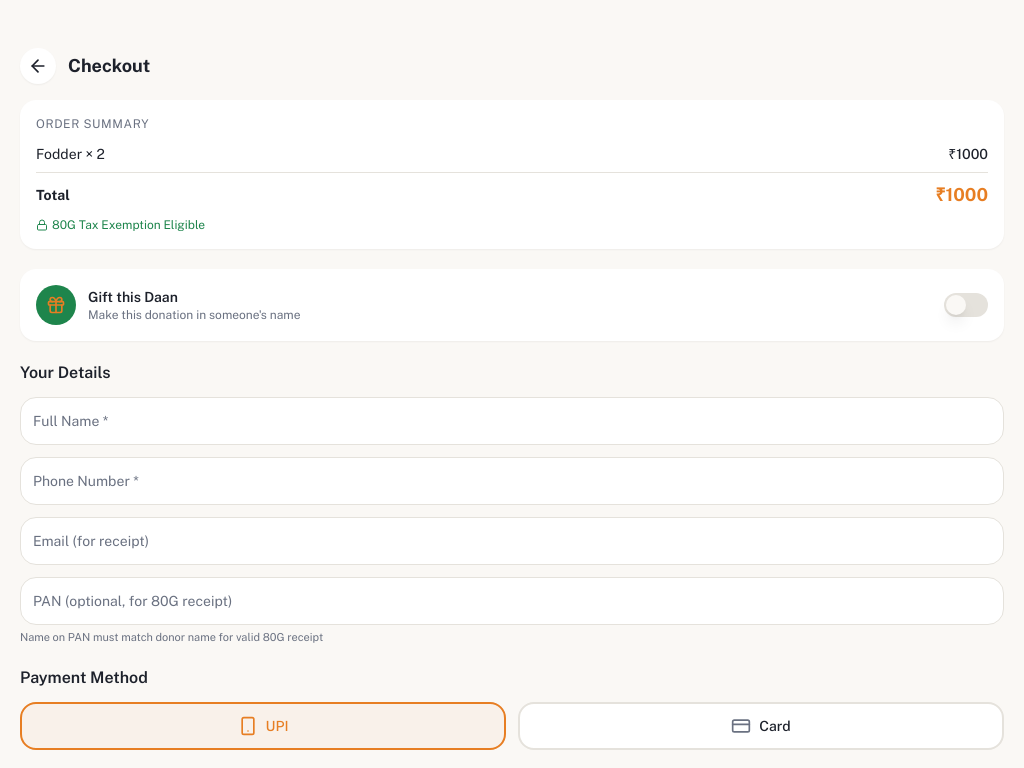
Test: Gift toggle › switches to custom message textarea
The width and height of the screenshot is (1024, 768).
Click the switch at (966, 305), box [944,293,988,317]
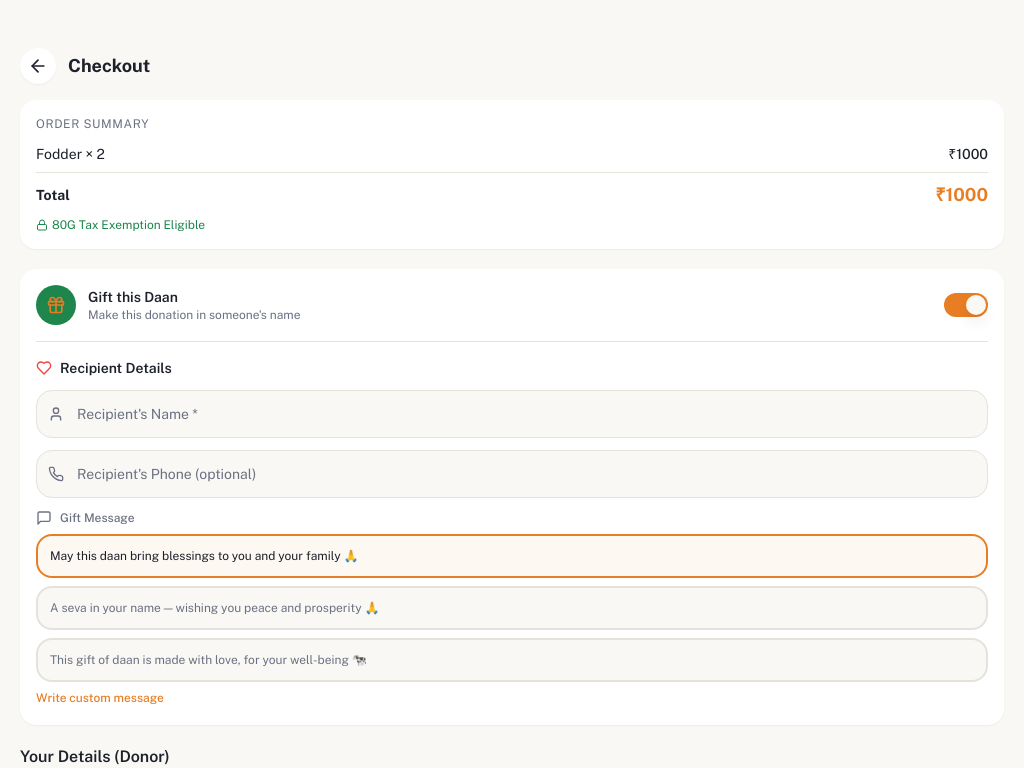
Click the button "Write custom message" at (100, 698), box [36,690,164,706]
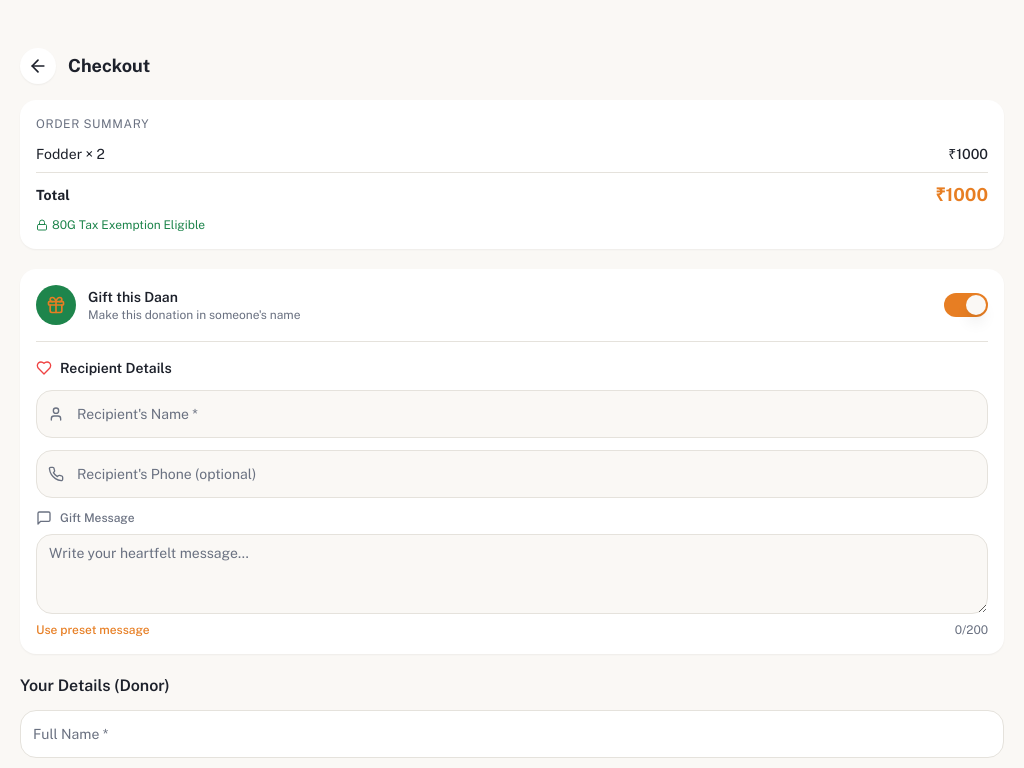
Now the text box with placeholder "Write your heartfelt message…" is shown, box [36,534,988,614]
Now the text "0/200" is shown, box [955,622,988,638]
